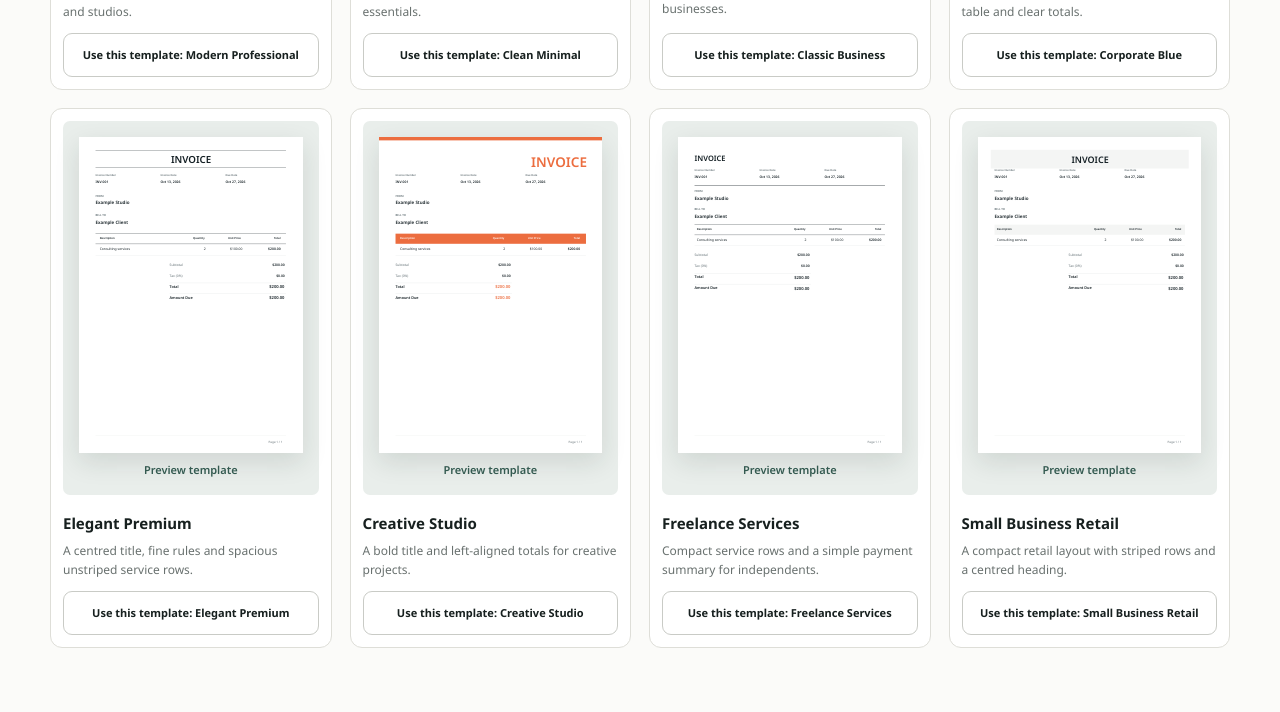
visual invoice workflow › selects retail before asking for personal details
(page scrolled)
Expected: the button "Business or full name" is not shown
Step 1. Click the button "Use this template: Small Business Retail" → {"x": 1089, "y": 613}, box [962,591,1217,635]
(page scrolled)
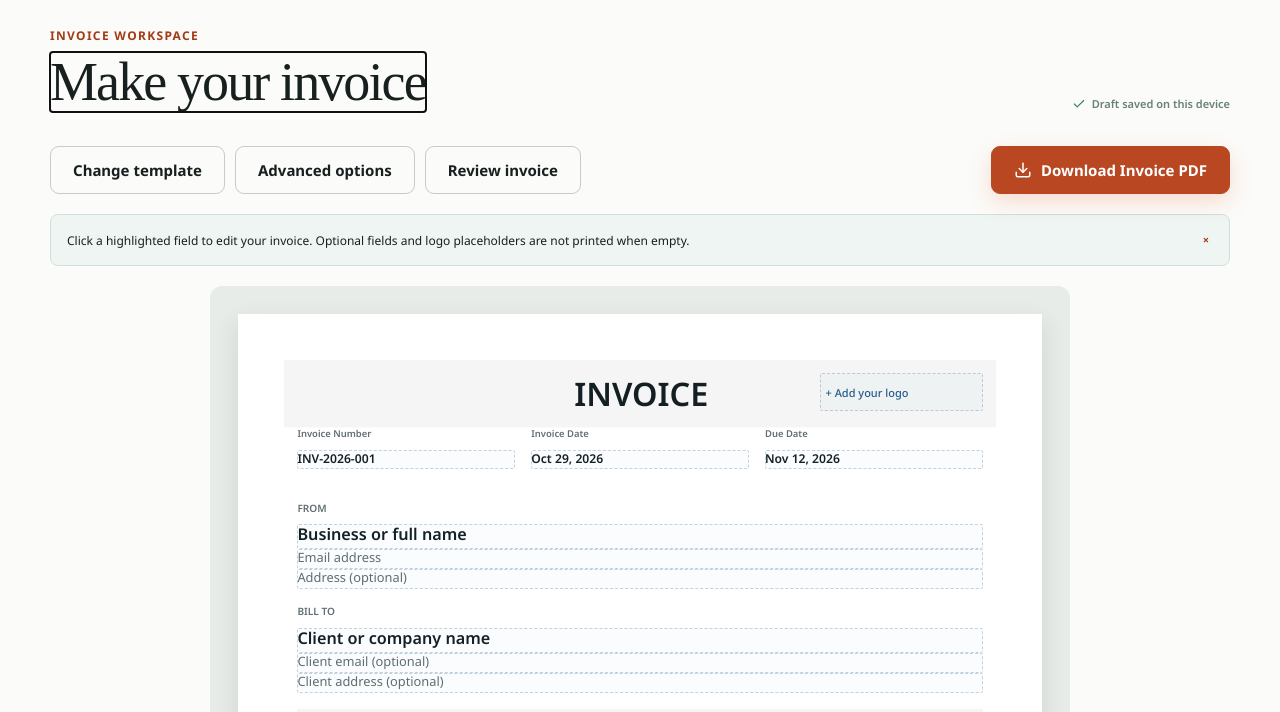
Expected: the button named "Business or full name" is shown, [297,524,982,549]
